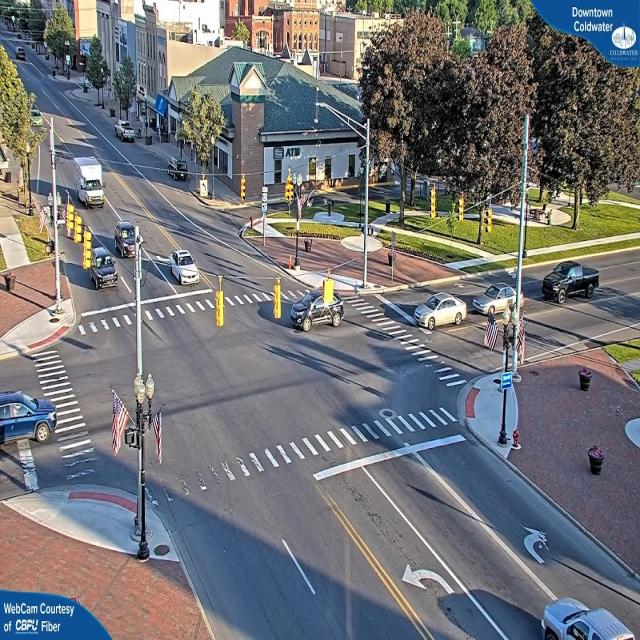car: (539, 601, 635, 640), (0, 387, 57, 452), (290, 286, 344, 332), (468, 278, 528, 316), (542, 262, 601, 300), (415, 290, 468, 328), (169, 250, 201, 286), (90, 250, 119, 287), (115, 220, 141, 260), (116, 122, 136, 143)
truck: (74, 154, 107, 213)
